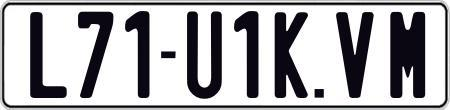1: (123, 8, 151, 99), (232, 11, 259, 102)
7: (75, 9, 113, 98)
K: (272, 11, 311, 99)
L: (29, 12, 72, 104)
M: (388, 9, 425, 98)
U: (187, 8, 226, 100)
V: (333, 11, 376, 103)
